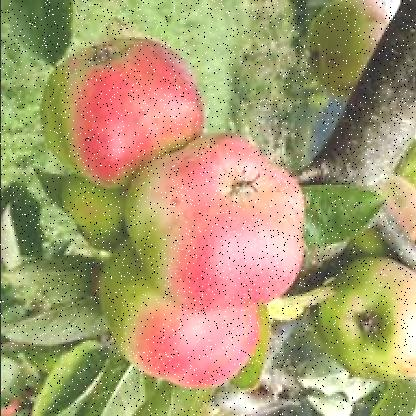apple: (133, 137, 305, 301), (41, 24, 207, 185), (103, 240, 259, 382), (320, 257, 414, 381)
